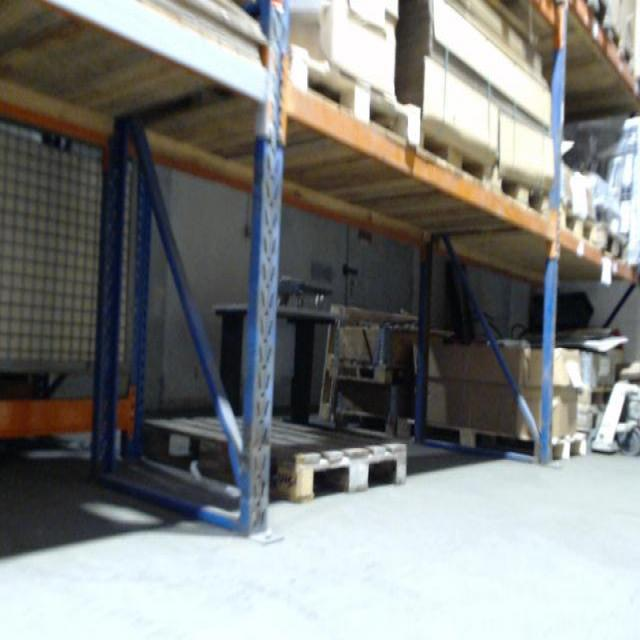pallet: (140, 402, 408, 502), (282, 44, 420, 146), (417, 411, 588, 466), (416, 124, 495, 193), (492, 169, 551, 218), (328, 355, 414, 385), (555, 200, 598, 243), (593, 222, 629, 265), (580, 382, 616, 411)
pallet_truck: (583, 373, 639, 456)
stillage: (1, 124, 141, 402)
